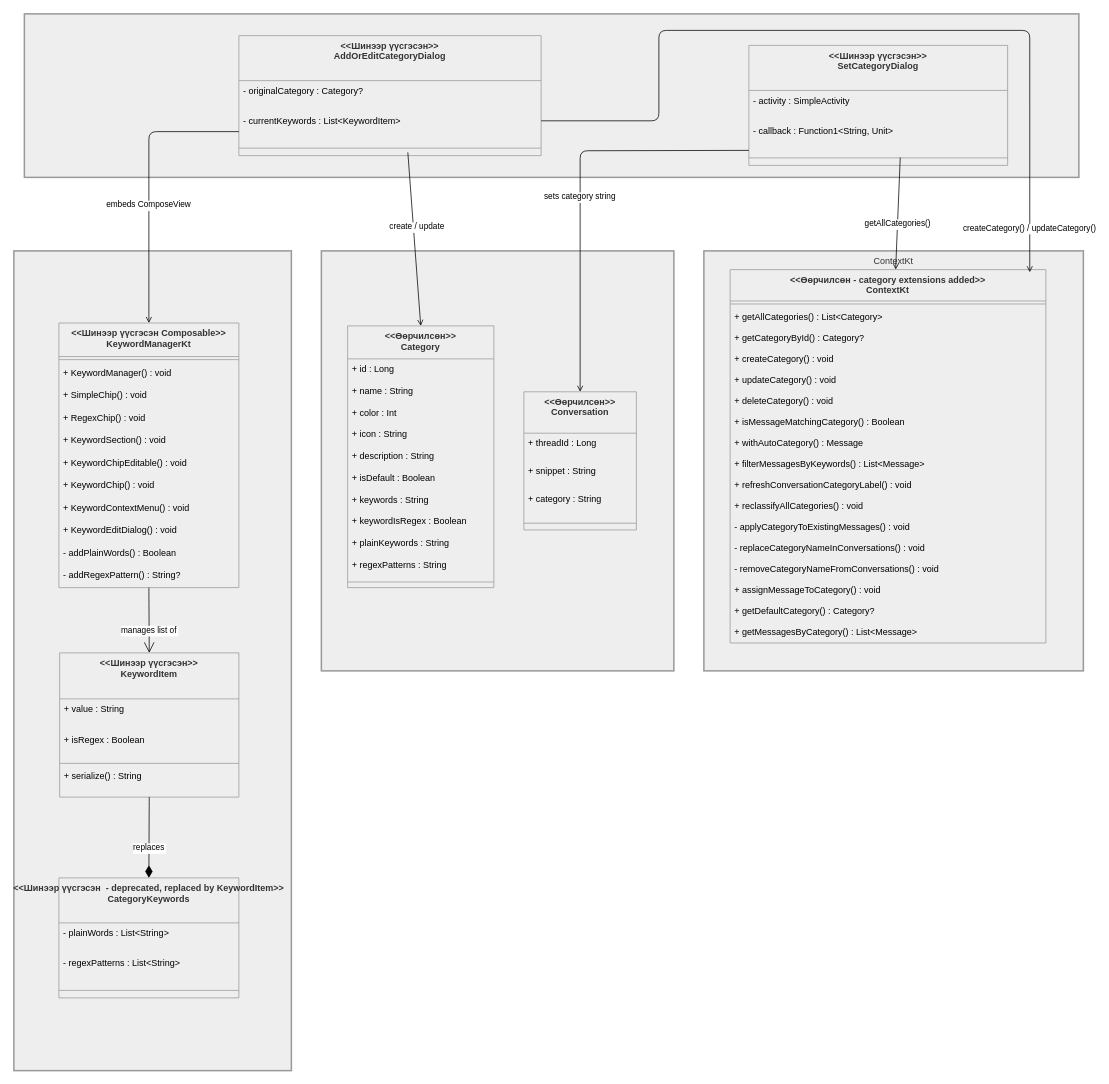
Image size: 1109x1084. Some labels were removed from this diagram. Here are the shapes that lost their labels. From the top down, the box of each, then its label:
(23, 13, 1079, 178): Dialogs
(320, 250, 674, 671): Models
(13, 250, 292, 1071): Compose
